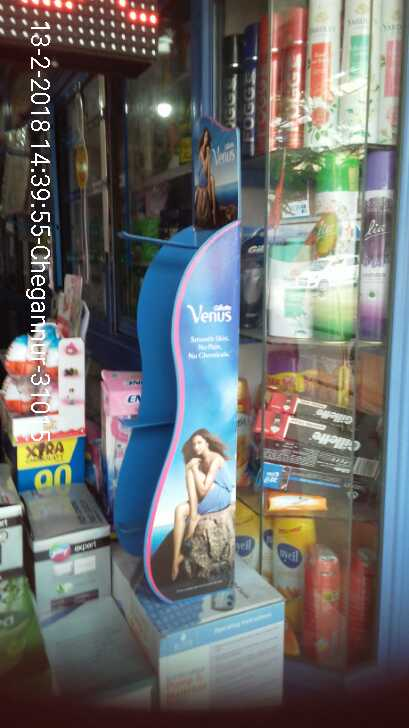reject: (103, 281, 186, 397)
